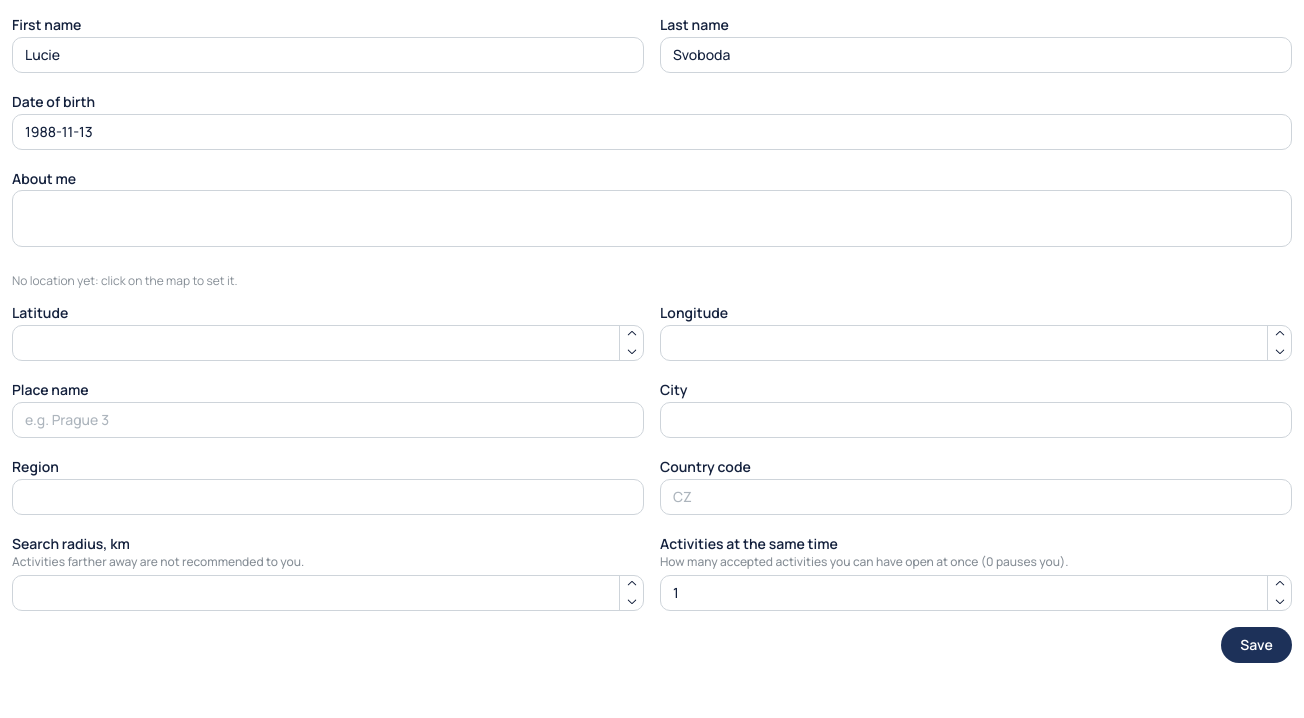
Test: BasicProfileForm › shows the field errors of the backend next to the fields
The width and height of the screenshot is (1304, 718).
Click the button "Save" at (1257, 645), box [1221,627,1292,663]
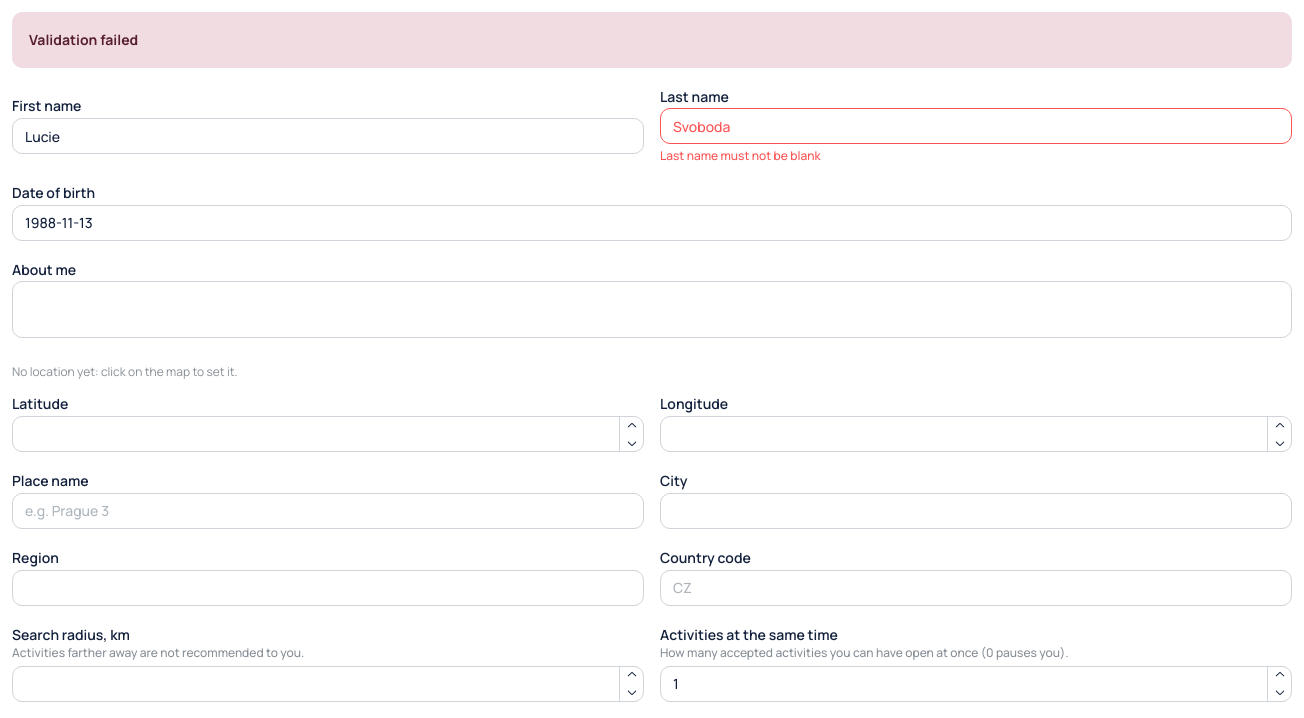
Check: the text "Last name must not be blank" is shown, box [660,148,821,164]
Check: the text "Validation failed" is shown, box [29,29,138,51]
